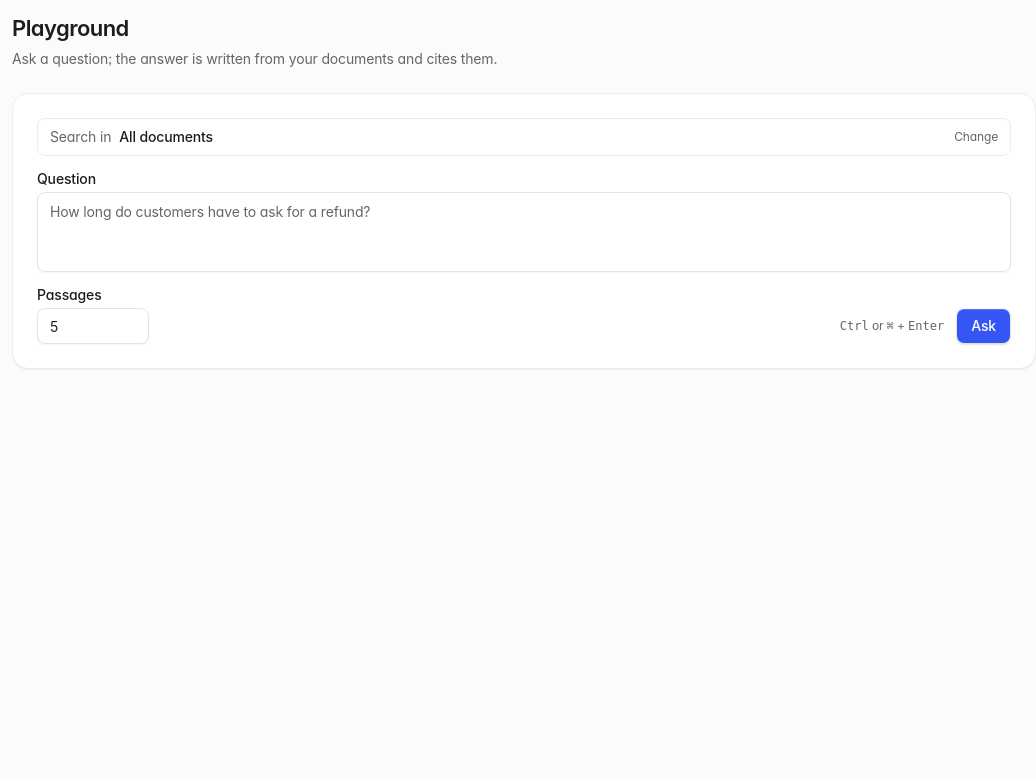
Test: PlaygroundContainer (mocked API) › with no documents: the API's message, no feedback, a link to add documents
In the text box labelled "Question": (524, 232) left=37, top=192, right=1011, bottom=272, type "Anything?"
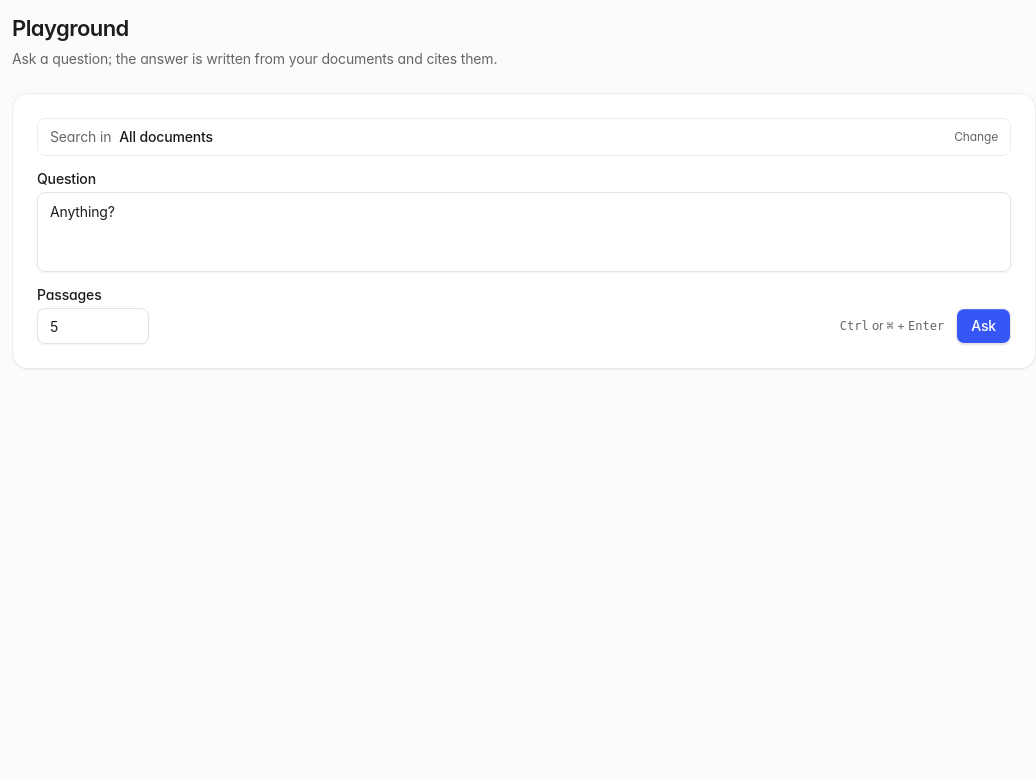
Replace the text in the number field labelled "Passages" with "3": (93, 326) left=37, top=308, right=149, bottom=344
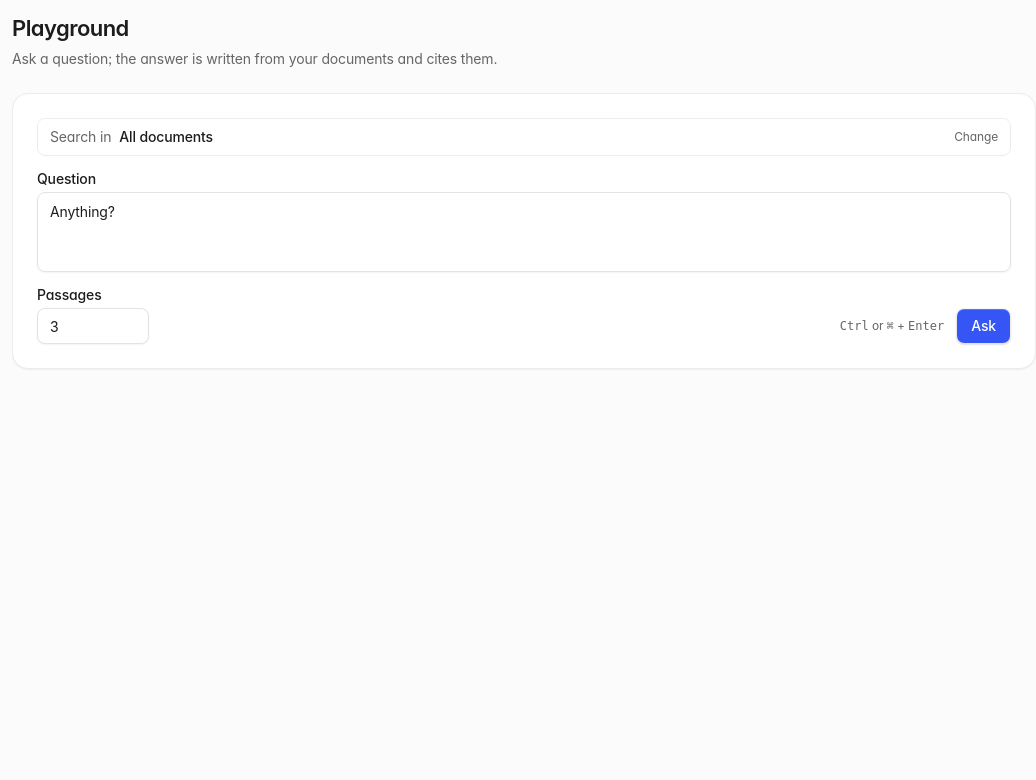
Click the button "Ask": click(984, 326) left=956, top=308, right=1011, bottom=344
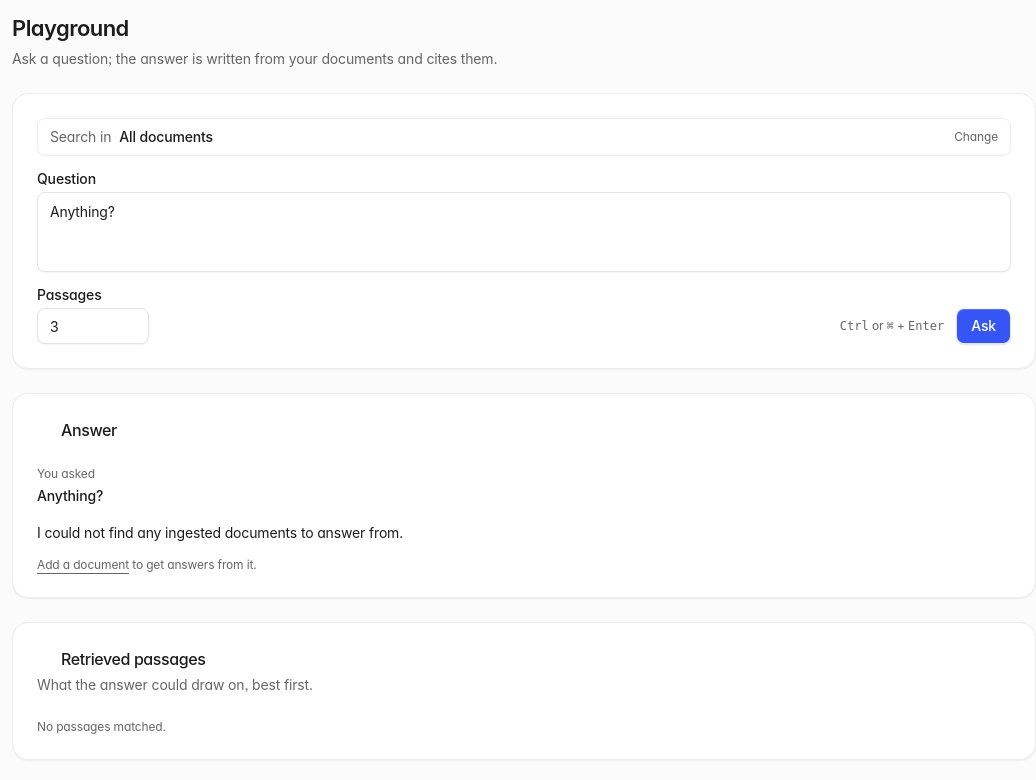
Check: the text "I could not find any ingested documents to answer from." is shown, box left=37, top=524, right=403, bottom=541
Check: the text "No passages matched." is shown, box left=37, top=719, right=166, bottom=734
